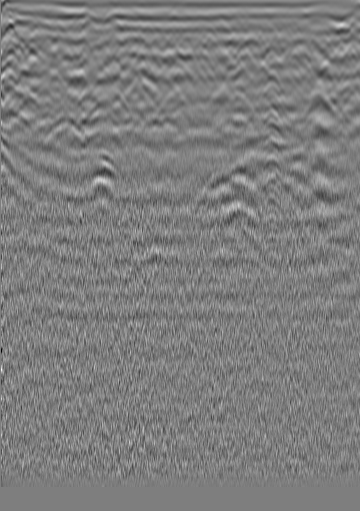가스: (86, 156, 118, 194)
상수: (313, 28, 333, 48)
오수: (22, 29, 42, 49)
우수: (181, 29, 201, 49)
